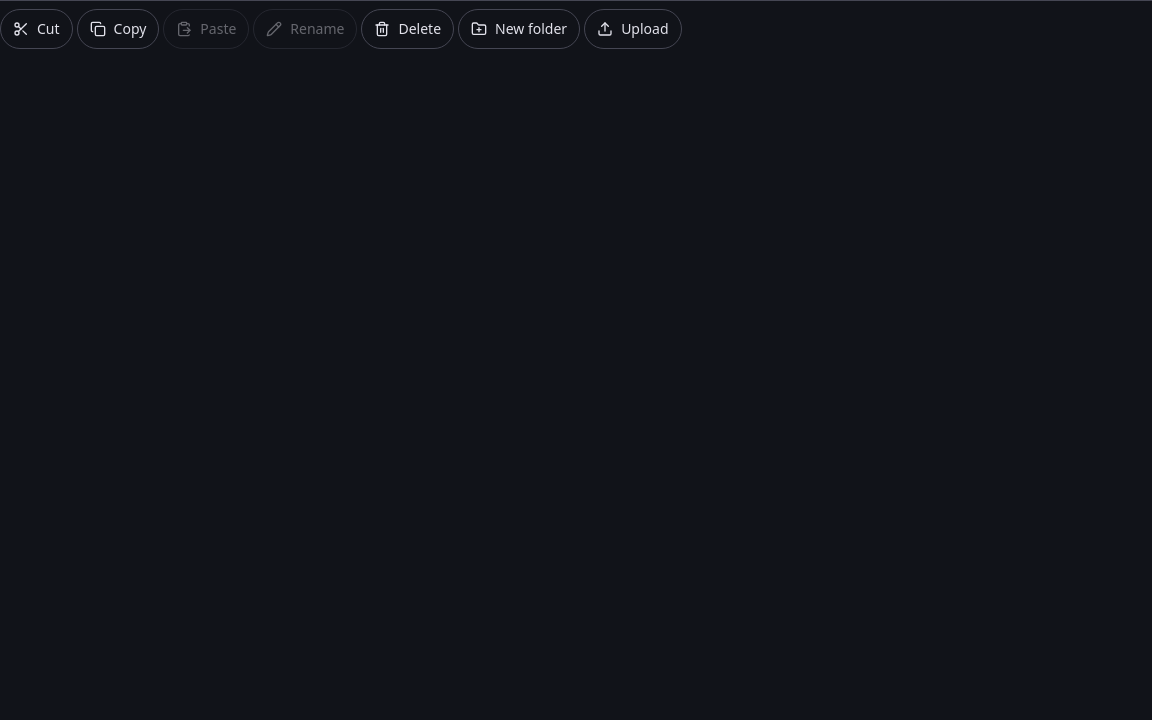
deletion queues every selected file without polling and closes the dialog
Click the button "Delete": x=408, y=29 362,9 -> 454,49
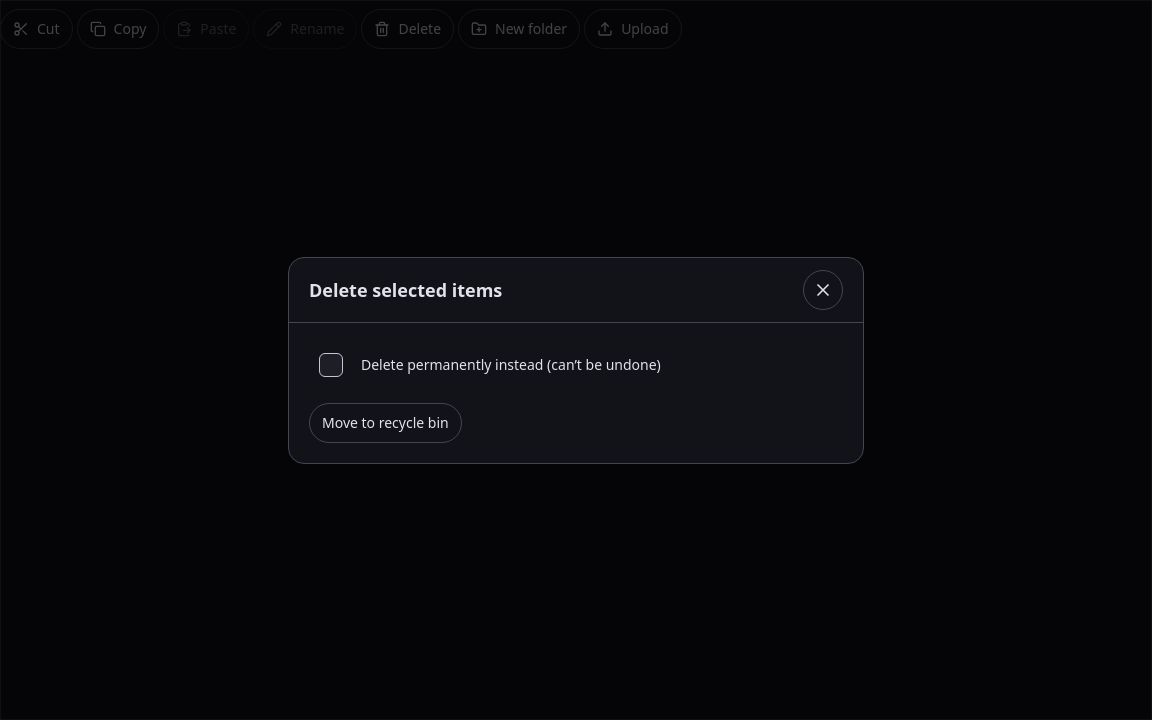
Now the checkbox is not checked, box 309,342 -> 353,386
Click the button "Move to recycle bin": x=385, y=422 309,402 -> 462,442
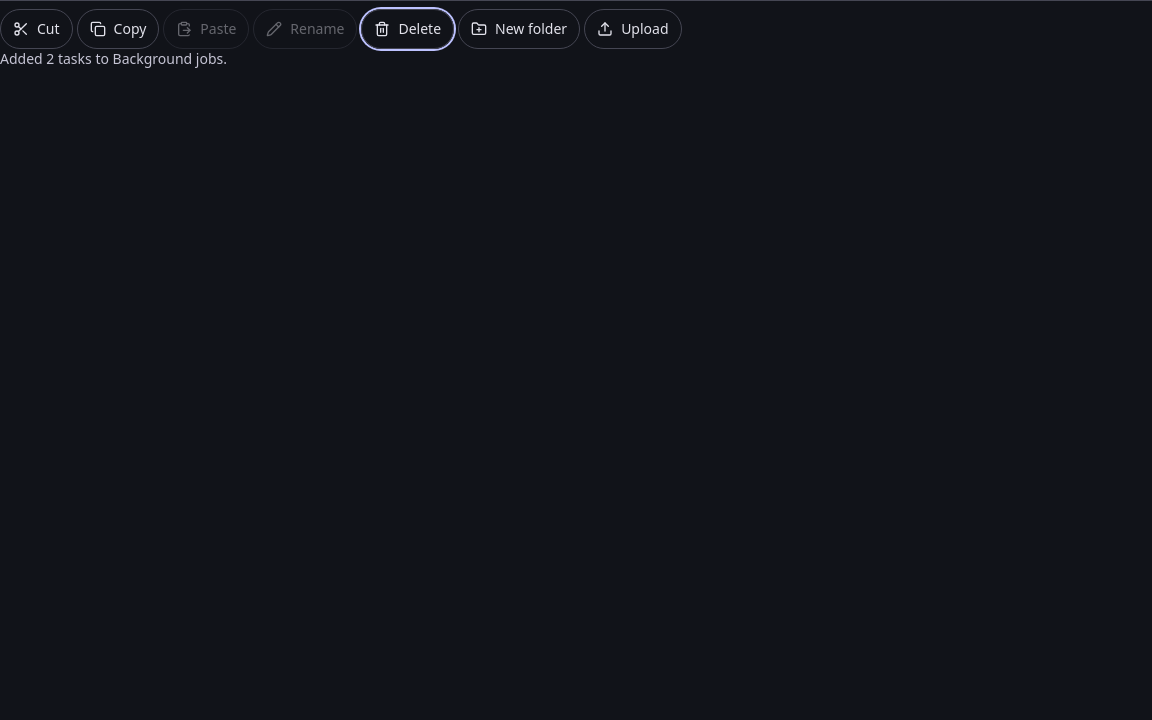
Now the text "Added 2 tasks to Background jobs." is shown, box 0,49 -> 227,68
Now the dialog is gone
